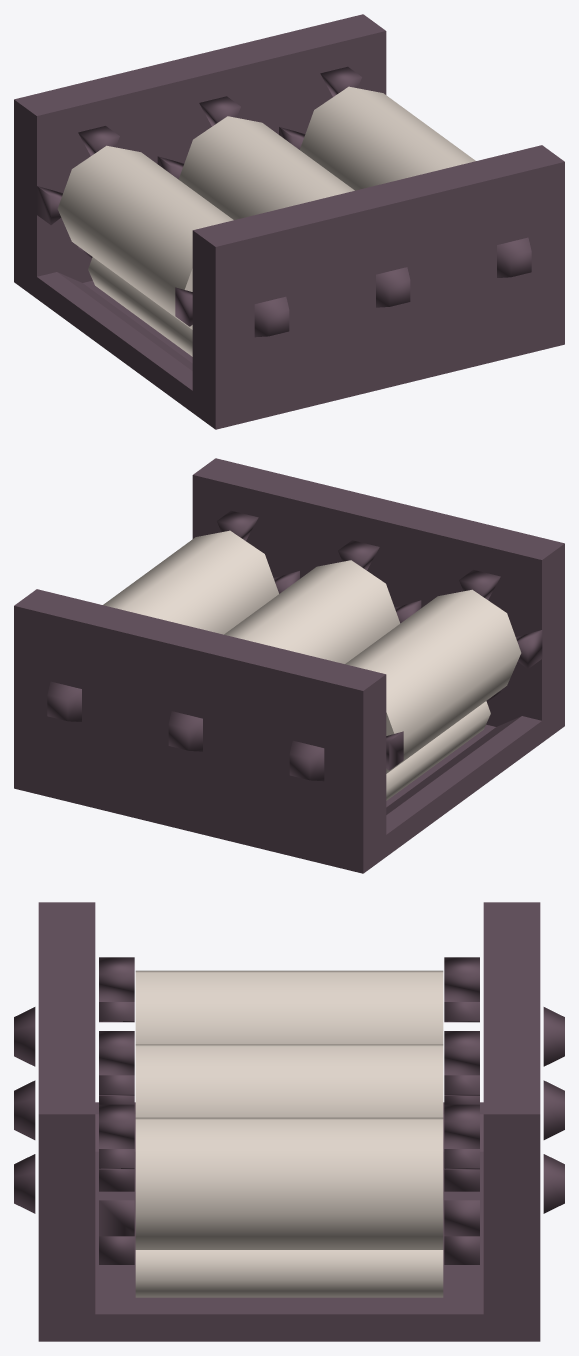
Rendered from GB_104_108_112_116_conveyor_belt_halfwidth.glb.
3 views of the same model, one above another, from view 1: azimuth 30°, elevation 25°; view 2: azimuth 150°, elevation 25°; view 3: azimuth 270°, elevation 25° (orthographic). The views are drawn at different scales.
Visible parts, largest first — view 1: Conveyor_Belt.002, Rolls.002, ThinRolls.002, Bearing.015, Bearing.013, Bearing.016, Bearing.017, Bearing.014, Bearing.012; view 2: Conveyor_Belt.002, Rolls.002, ThinRolls.002, Bearing.013, Bearing.015, Bearing.012, Bearing.014, Bearing.017, Bearing.016; view 3: Rolls.002, Conveyor_Belt.002, ThinRolls.002, Bearing.012, Bearing.016, Bearing.014, Bearing.017, Bearing.013, Bearing.015.
Part boxes in pixels (box(x1,y1,x2,y2)): Conveyor_Belt.002: box(14, 14, 564, 429); Rolls.002: box(57, 86, 475, 329); ThinRolls.002: box(88, 257, 192, 356); Bearing.015: box(175, 287, 289, 337); Bearing.013: box(36, 126, 119, 257); Bearing.016: box(497, 237, 531, 277); Bearing.017: box(376, 267, 410, 307); Bearing.014: box(157, 96, 240, 179); Bearing.012: box(279, 66, 361, 149); Conveyor_Belt.002: box(14, 458, 564, 873); Rolls.002: box(103, 530, 521, 773); ThinRolls.002: box(386, 701, 490, 800); Bearing.013: box(289, 731, 403, 781); Bearing.015: box(459, 570, 542, 701); Bearing.012: box(47, 681, 81, 721); Bearing.014: box(168, 711, 202, 751); Bearing.017: box(338, 540, 421, 623); Bearing.016: box(217, 510, 299, 593); Rolls.002: box(135, 970, 443, 1249); Conveyor_Belt.002: box(38, 902, 540, 1341); ThinRolls.002: box(135, 1250, 443, 1297); Bearing.012: box(444, 1104, 564, 1264); Bearing.016: box(14, 1104, 134, 1264); Bearing.014: box(444, 1031, 564, 1191); Bearing.017: box(14, 1031, 134, 1191); Bearing.013: box(444, 957, 564, 1104); Bearing.015: box(14, 957, 134, 1104).
Bounding box in the file's own units: 0.7569 × 0.375 × 0.8233.
